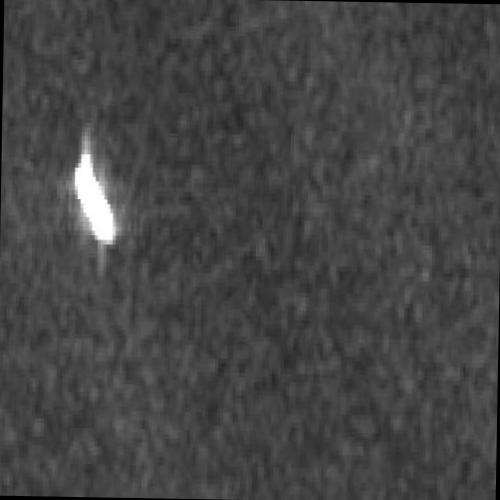ship: (75, 151, 114, 243)
